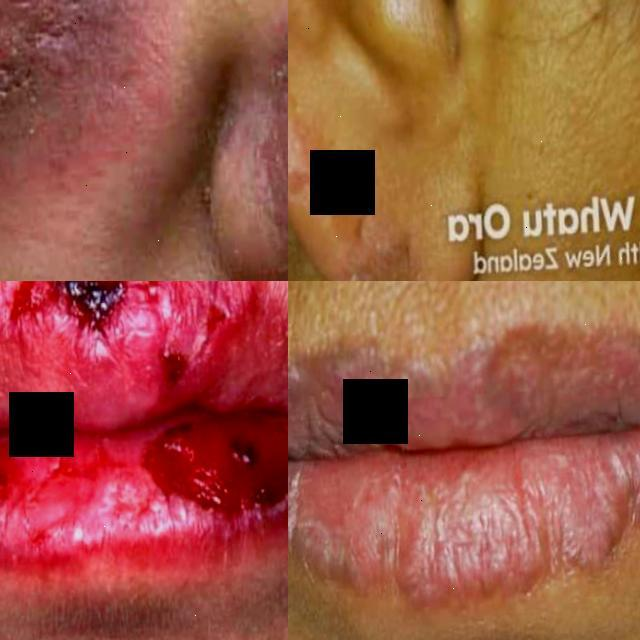lupus-detected: (288, 284, 640, 640), (0, 281, 288, 634), (0, 0, 253, 191), (288, 54, 489, 281), (217, 0, 288, 281)
